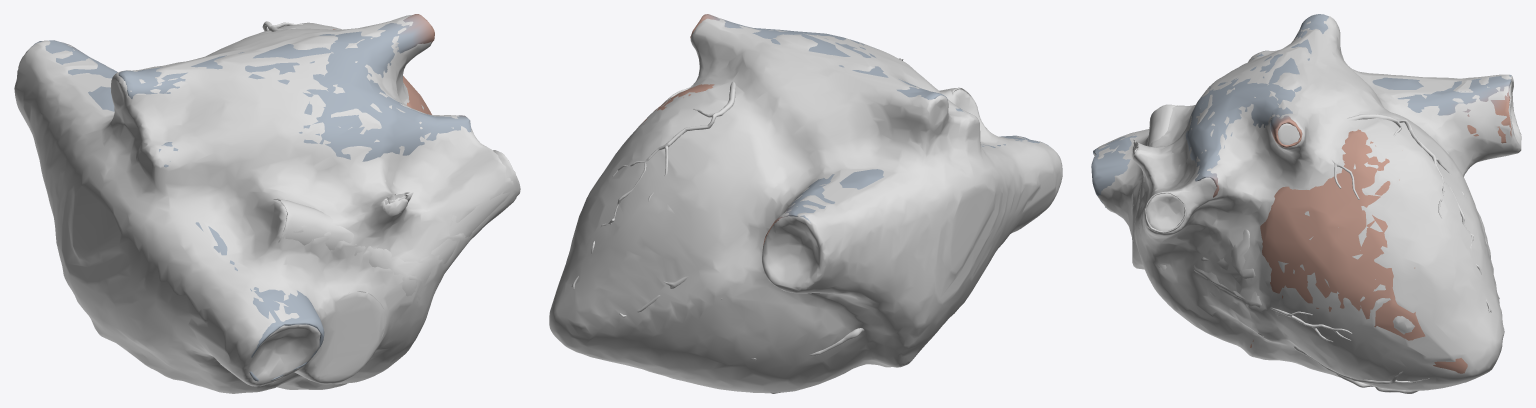
File: heart.glb
3 renders of one model, left to right at view 1: azimuth 30°, elevation 25°; view 2: azimuth 150°, elevation 25°; view 3: azimuth 270°, elevation 25°, orthographic. The views are drawn at different scales.
Parts seen in each view (by area): view 1: SoftTissueEnvelope, Myocardium, PulmonaryTrunk; view 2: SoftTissueEnvelope, Myocardium, LCA_OM2; view 3: SoftTissueEnvelope, Myocardium, PulmonaryTrunk, LeftAtrialAppendage, LCA_OM2, LCA_D1, LCA_LAD.
Boxes of the visible parts, <box> form: SoftTissueEnvelope: <box>14,15,516,393</box>; Myocardium: <box>31,14,471,381</box>; PulmonaryTrunk: <box>273,150,520,302</box>; SoftTissueEnvelope: <box>549,17,1062,393</box>; Myocardium: <box>641,14,1049,246</box>; LCA_OM2: <box>571,82,735,289</box>; SoftTissueEnvelope: <box>1094,16,1521,390</box>; Myocardium: <box>1091,14,1511,373</box>; PulmonaryTrunk: <box>1134,104,1186,270</box>; LeftAtrialAppendage: <box>1193,229,1263,336</box>; LCA_OM2: <box>1347,114,1491,312</box>; LCA_D1: <box>1270,307,1352,341</box>; LCA_LAD: <box>1293,346,1428,393</box>.
Size of the model in its own units: 156 by 137 by 186.
